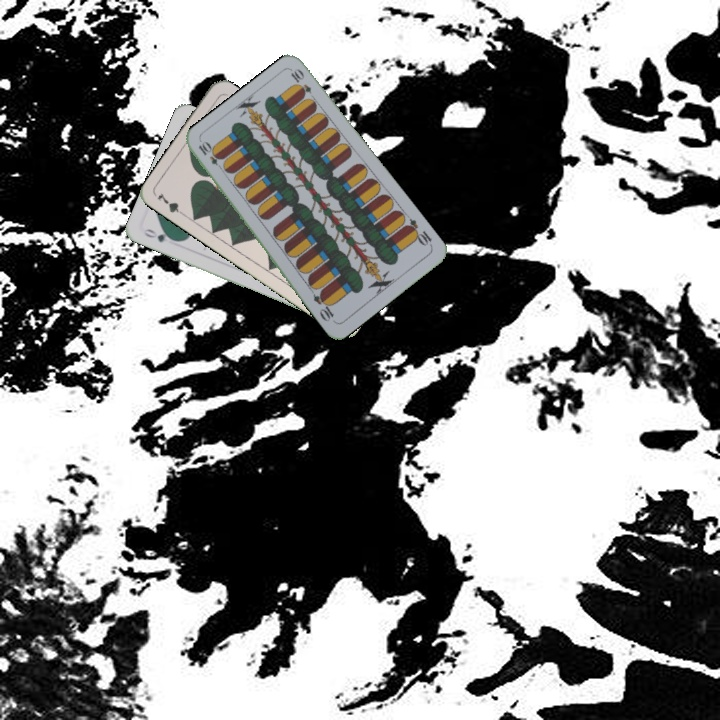E10: (401, 215, 435, 250), (194, 138, 227, 173)
G7: (153, 188, 189, 219)
GO: (140, 225, 179, 245)
